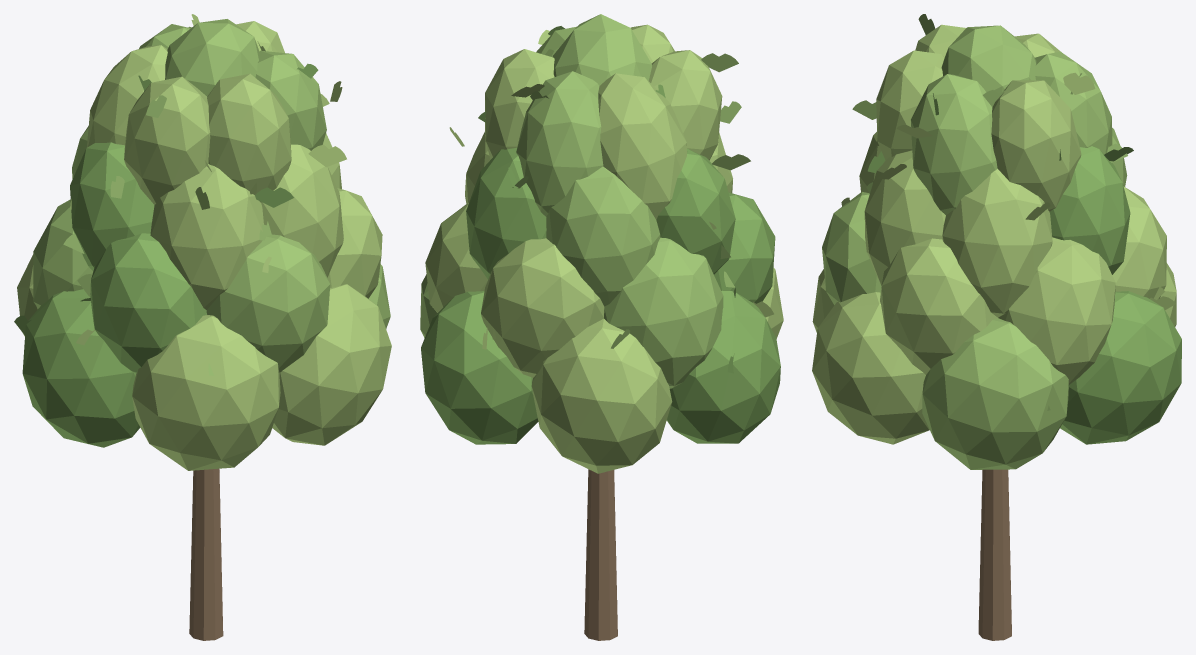
File: SIMUS_Ginkgo_Green.glb
3 views of the same model, side by side, from view 1: azimuth 30°, elevation 25°; view 2: azimuth 150°, elevation 25°; view 3: azimuth 270°, elevation 25° (orthographic).
Visible parts, largest first — view 1: Ginkgo_Green Leaf green 2, Ginkgo_Green Leaf green 0, Ginkgo_Green Leaf green 1, Ginkgo_Green Warm bark; view 2: Ginkgo_Green Leaf green 2, Ginkgo_Green Leaf green 0, Ginkgo_Green Leaf green 1, Ginkgo_Green Warm bark; view 3: Ginkgo_Green Leaf green 2, Ginkgo_Green Leaf green 1, Ginkgo_Green Leaf green 0, Ginkgo_Green Warm bark.
Boxes of the visible parts, x1,y1,x2,y2 form: Ginkgo_Green Leaf green 2: [17, 14, 391, 470]; Ginkgo_Green Leaf green 0: [14, 63, 318, 447]; Ginkgo_Green Leaf green 1: [33, 19, 390, 375]; Ginkgo_Green Warm bark: [189, 468, 223, 640]; Ginkgo_Green Leaf green 2: [425, 24, 783, 473]; Ginkgo_Green Leaf green 0: [421, 26, 780, 444]; Ginkgo_Green Leaf green 1: [420, 14, 750, 388]; Ginkgo_Green Warm bark: [584, 469, 617, 640]; Ginkgo_Green Leaf green 2: [812, 24, 1176, 444]; Ginkgo_Green Leaf green 1: [822, 14, 1127, 469]; Ginkgo_Green Leaf green 0: [867, 93, 1181, 444]; Ginkgo_Green Warm bark: [978, 469, 1011, 640].
Size of the model in its own units: 4.11 by 7.01 by 3.86.
